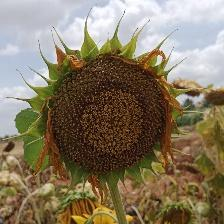sunflower: (44, 45, 183, 187), (171, 78, 206, 100), (209, 90, 224, 108)
